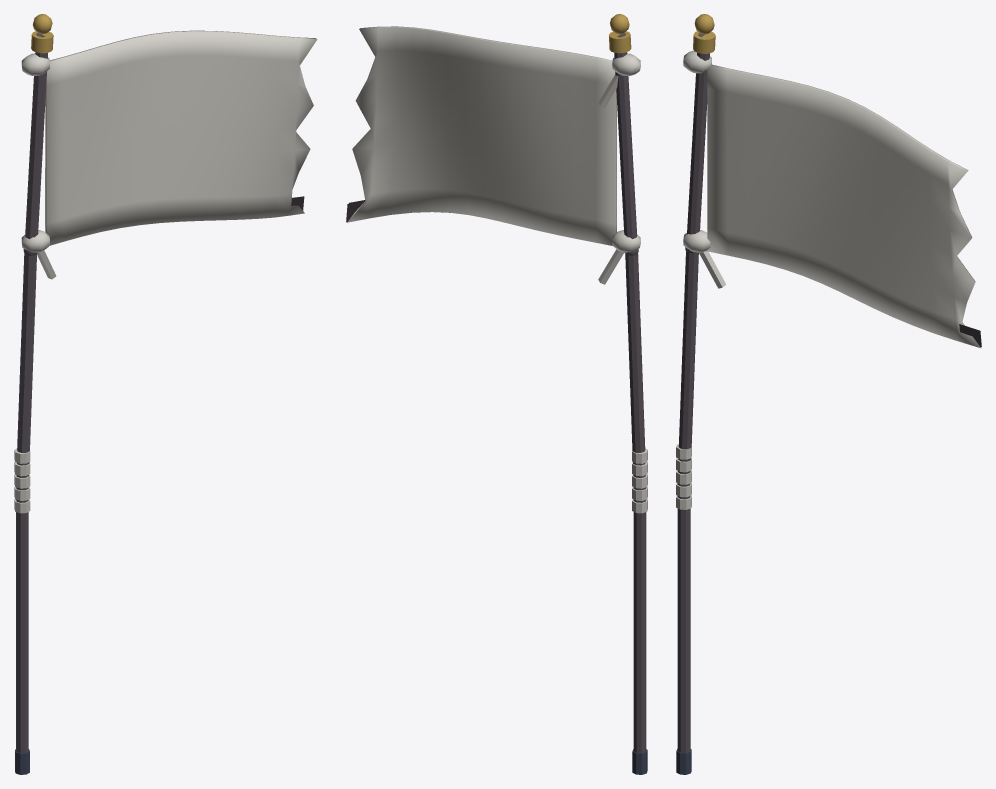
File: interlude_white_flag.glb
3 renders of one model, left to right at view 1: azimuth 30°, elevation 25°; view 2: azimuth 150°, elevation 25°; view 3: azimuth 330°, elevation 25°, orthographic.
Visible parts, largest first — view 1: interlude_white_flag_vc, interlude_white_flag_vcd, interlude_white_flag_vc_detail; view 2: interlude_white_flag_vc, interlude_white_flag_vcd, interlude_white_flag_vc_detail; view 3: interlude_white_flag_vc, interlude_white_flag_vcd, interlude_white_flag_vc_detail.
Boxes of the visible parts, box(x1,y1,x2,y2) form: interlude_white_flag_vc: box(45, 30, 317, 245); interlude_white_flag_vcd: box(16, 33, 47, 753); interlude_white_flag_vc_detail: box(14, 14, 56, 513); interlude_white_flag_vc: box(347, 26, 616, 245); interlude_white_flag_vcd: box(614, 33, 646, 753); interlude_white_flag_vc_detail: box(598, 14, 647, 513); interlude_white_flag_vc: box(707, 64, 980, 348); interlude_white_flag_vcd: box(677, 33, 709, 752); interlude_white_flag_vc_detail: box(676, 14, 725, 509).
Bounding box in the file's own units: 0.8734 × 2.13 × 0.0763.
